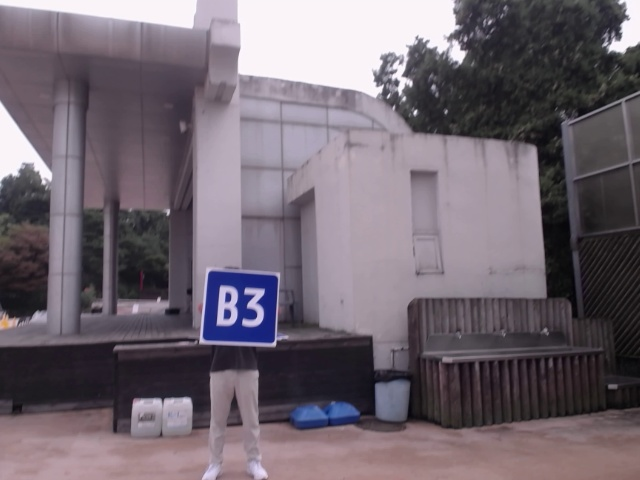delivery_b3: (203, 268, 278, 348)
